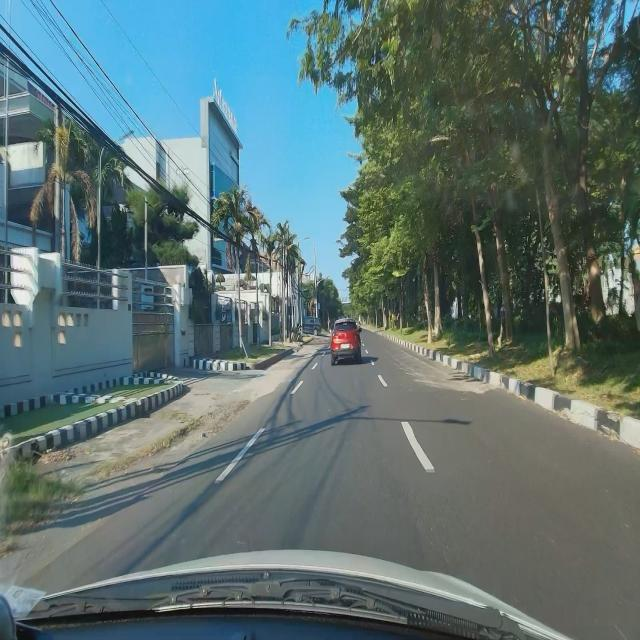car: (329, 317, 363, 367)
license-plate: (341, 343, 350, 349)
